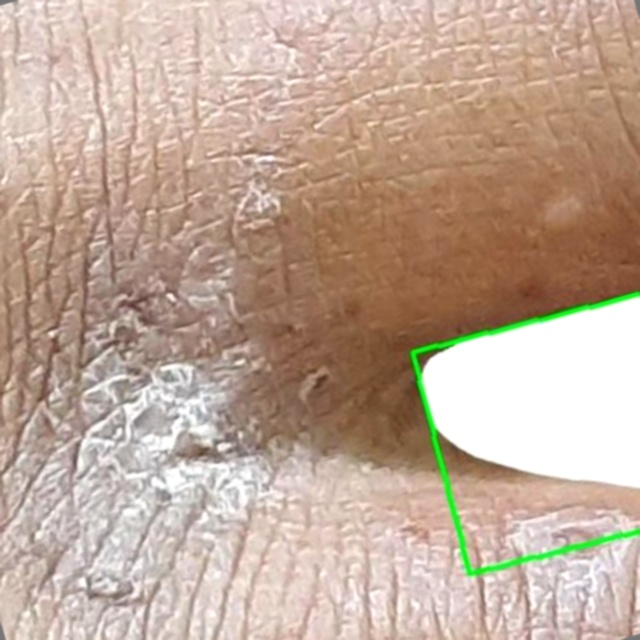Scabies: (412, 294, 639, 575)
